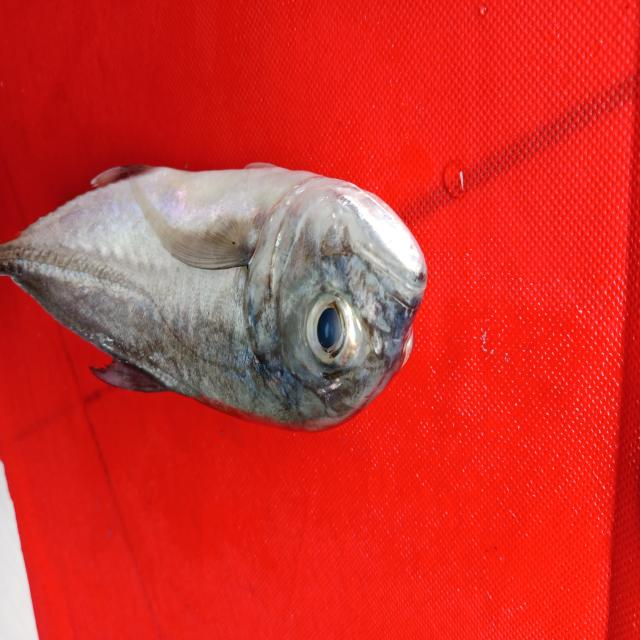ikan: (6, 126, 432, 448)
